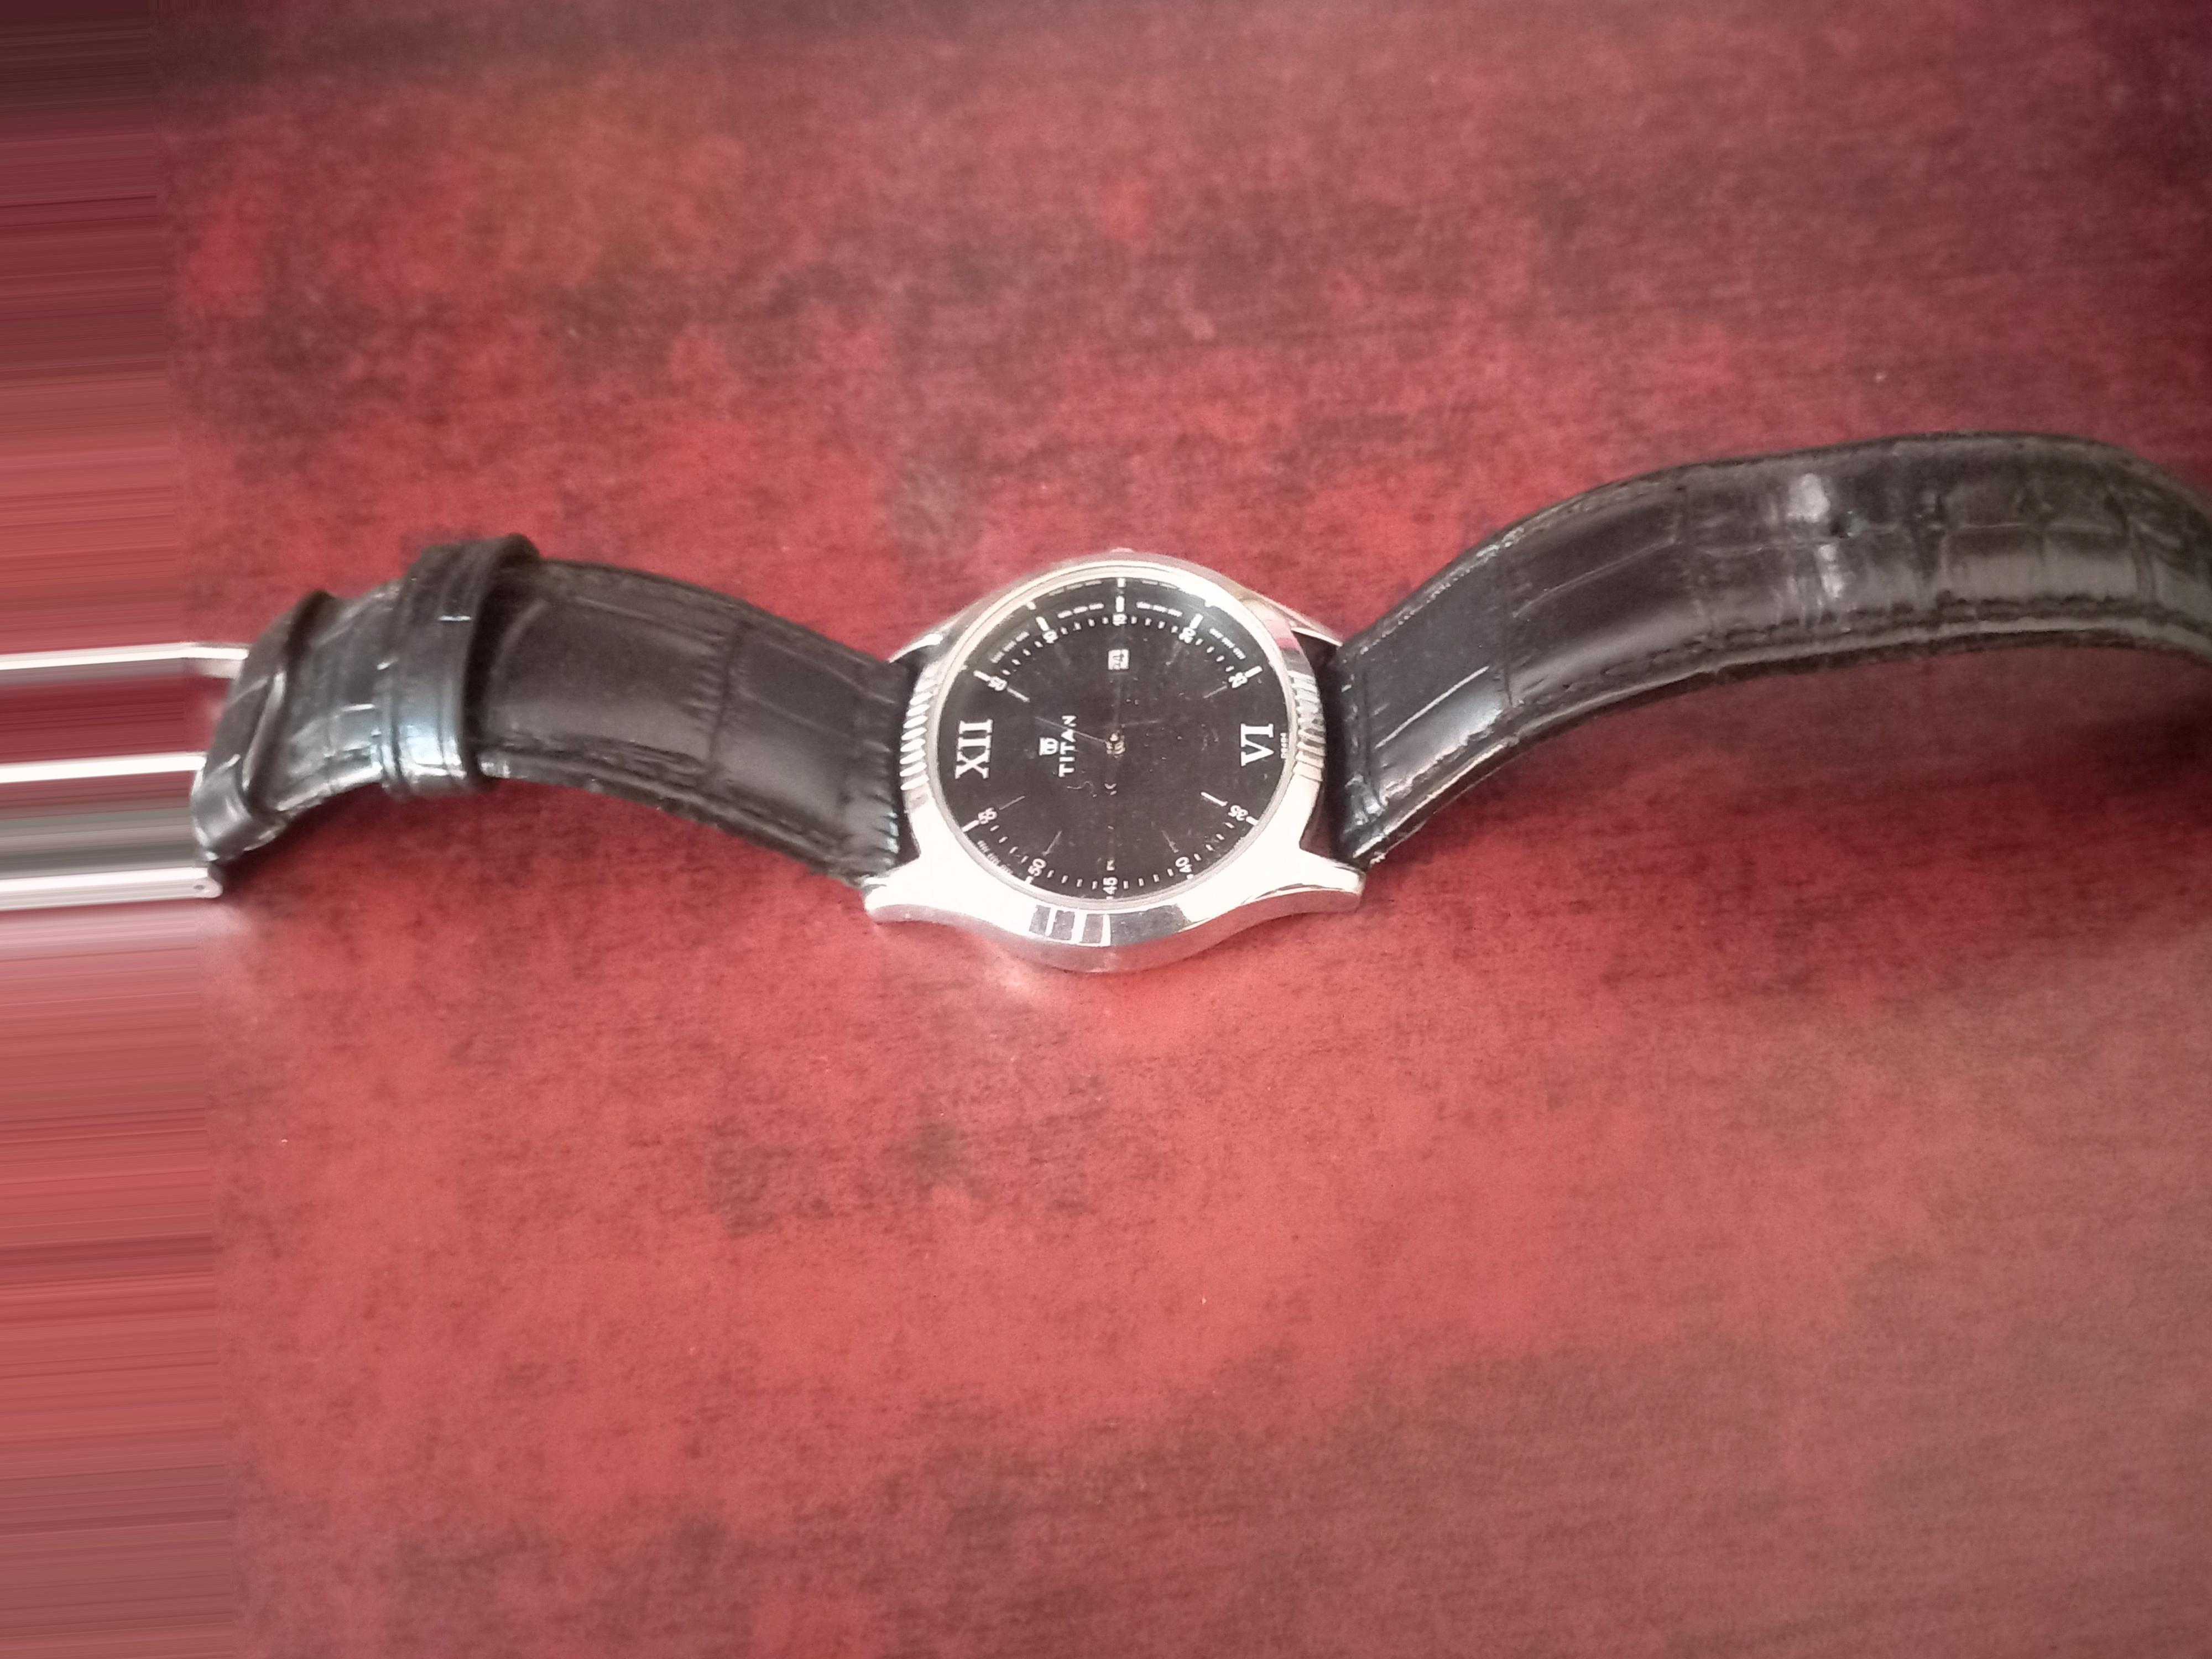watch: (0, 455, 2191, 979)
